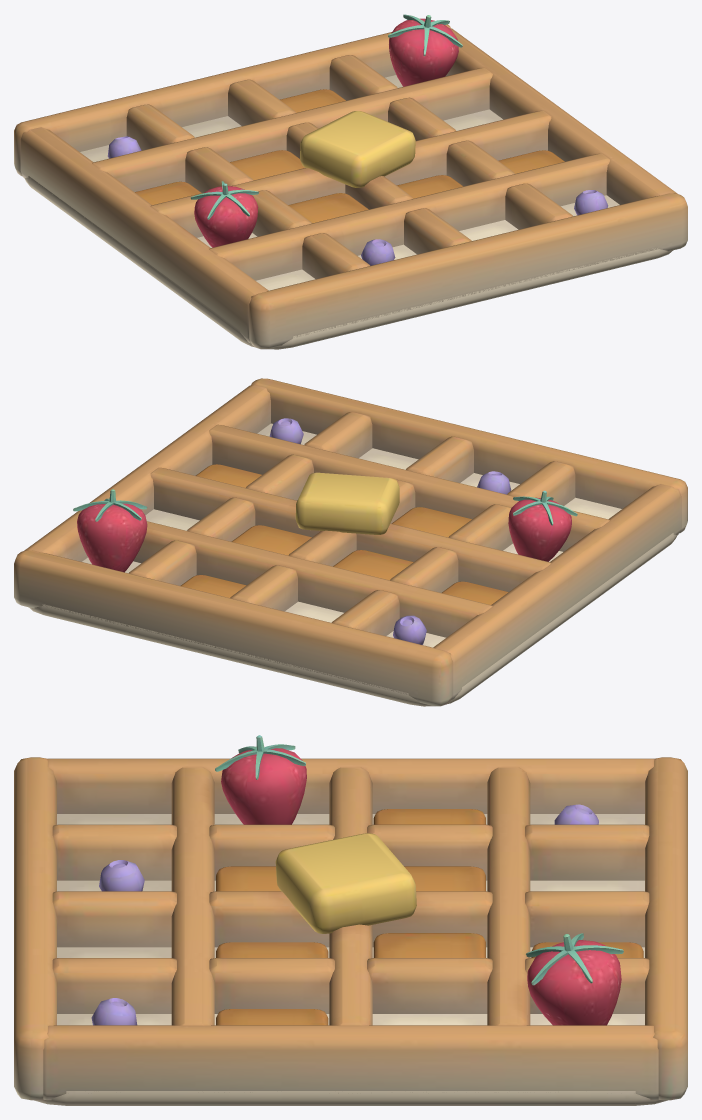
The model's file is gofre.glb.
3 renders of one model, top to bottom at view 1: azimuth 30°, elevation 25°; view 2: azimuth 150°, elevation 25°; view 3: azimuth 270°, elevation 25°, orthographic. The views are drawn at different scales.
Parts seen in each view (by area): view 1: waffle_body; view 2: waffle_body; view 3: waffle_body.
Part boxes in pixels (x1,y1,x2,y2): waffle_body: [14, 14, 687, 349]; waffle_body: [14, 378, 687, 706]; waffle_body: [14, 735, 687, 1105].
Bounding box in the file's own units: 0.18 × 0.0406 × 0.18.
1 material, 1 textured.
